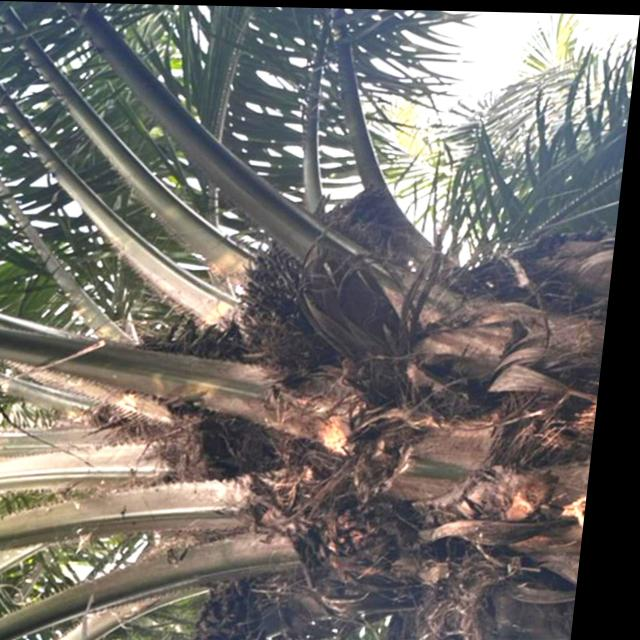almost: (234, 226, 378, 360)
